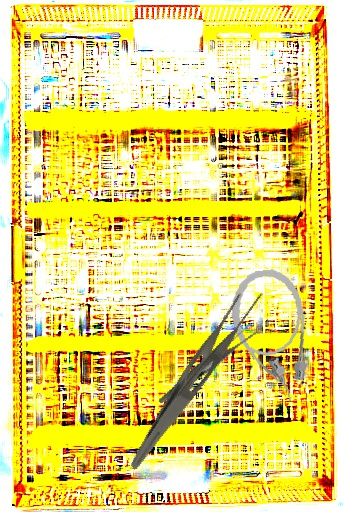Cannula: (227, 266, 315, 408)
Dressing Forceps: (127, 277, 267, 483), (144, 322, 270, 404)
